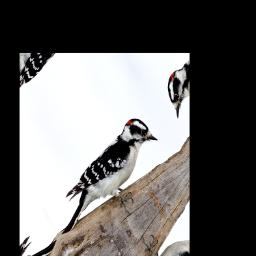Woodpecker: (46, 105, 175, 256)
